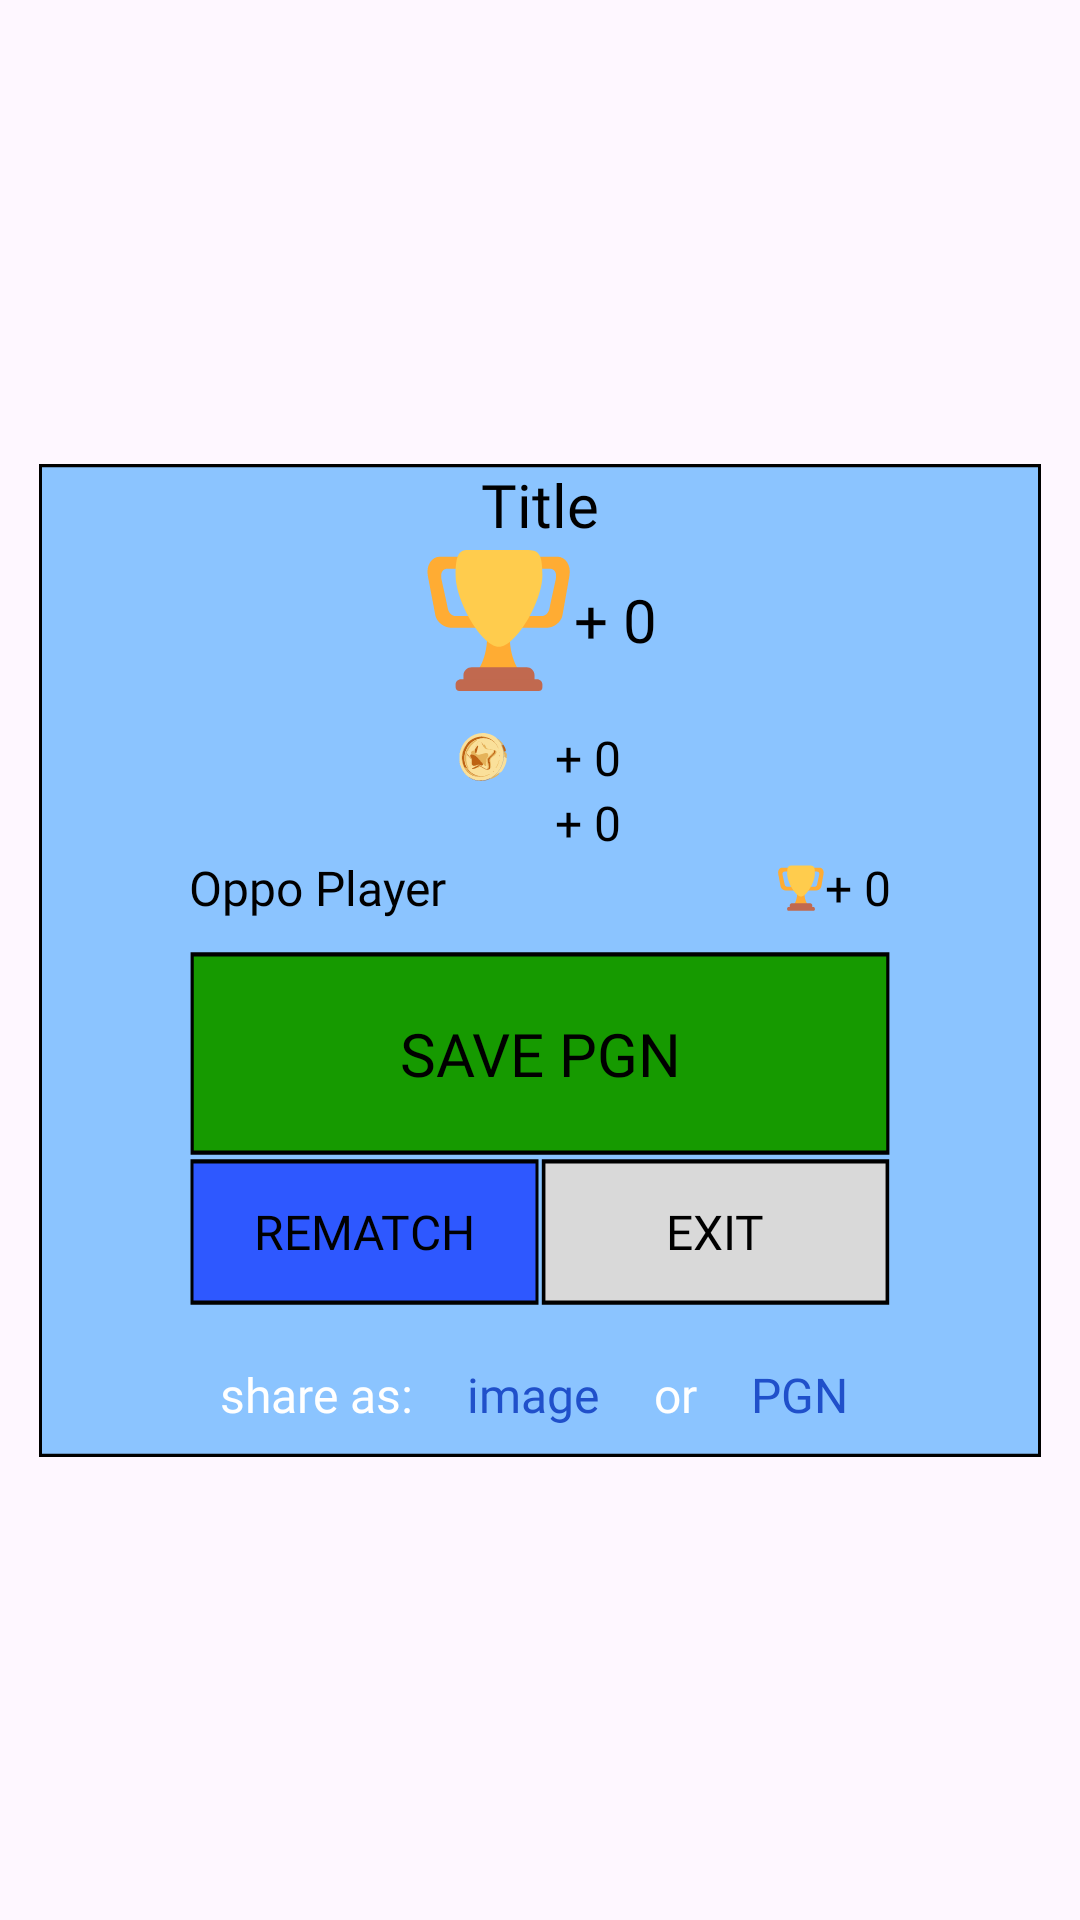

Named icons in this screenshot (1080px×1920px) and their centers, (x,y):
coin: (483,757)
trophy: (498,620), (801,888)
